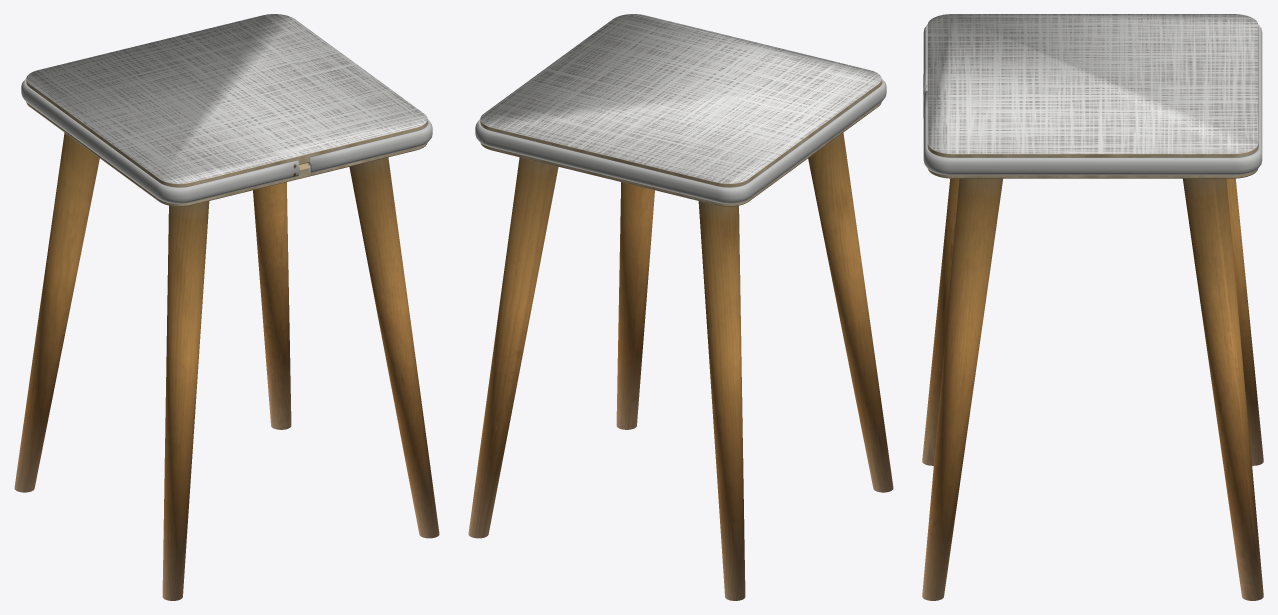
The model's file is stool.glb.
3 renders of one model, left to right at view 1: azimuth 30°, elevation 25°; view 2: azimuth 150°, elevation 25°; view 3: azimuth 270°, elevation 25°, orthographic. The views are drawn at different scales.
Visible parts, largest first — view 1: Taburetka; view 2: Taburetka; view 3: Taburetka.
Part boxes in pixels (x1,y1,x2,y2): Taburetka: [14, 14, 439, 600]; Taburetka: [468, 14, 893, 600]; Taburetka: [922, 14, 1263, 600].
Bounding box in the file's own units: 0.3101 × 0.4456 × 0.3101.
5 materials, 5 textured.
